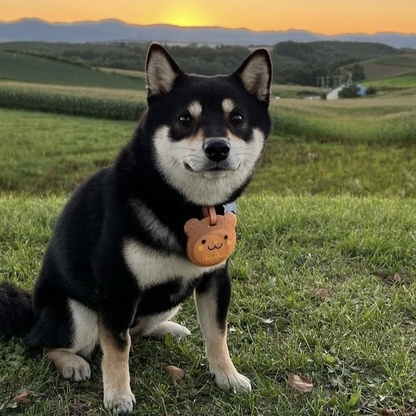shiba: (2, 38, 274, 416)
